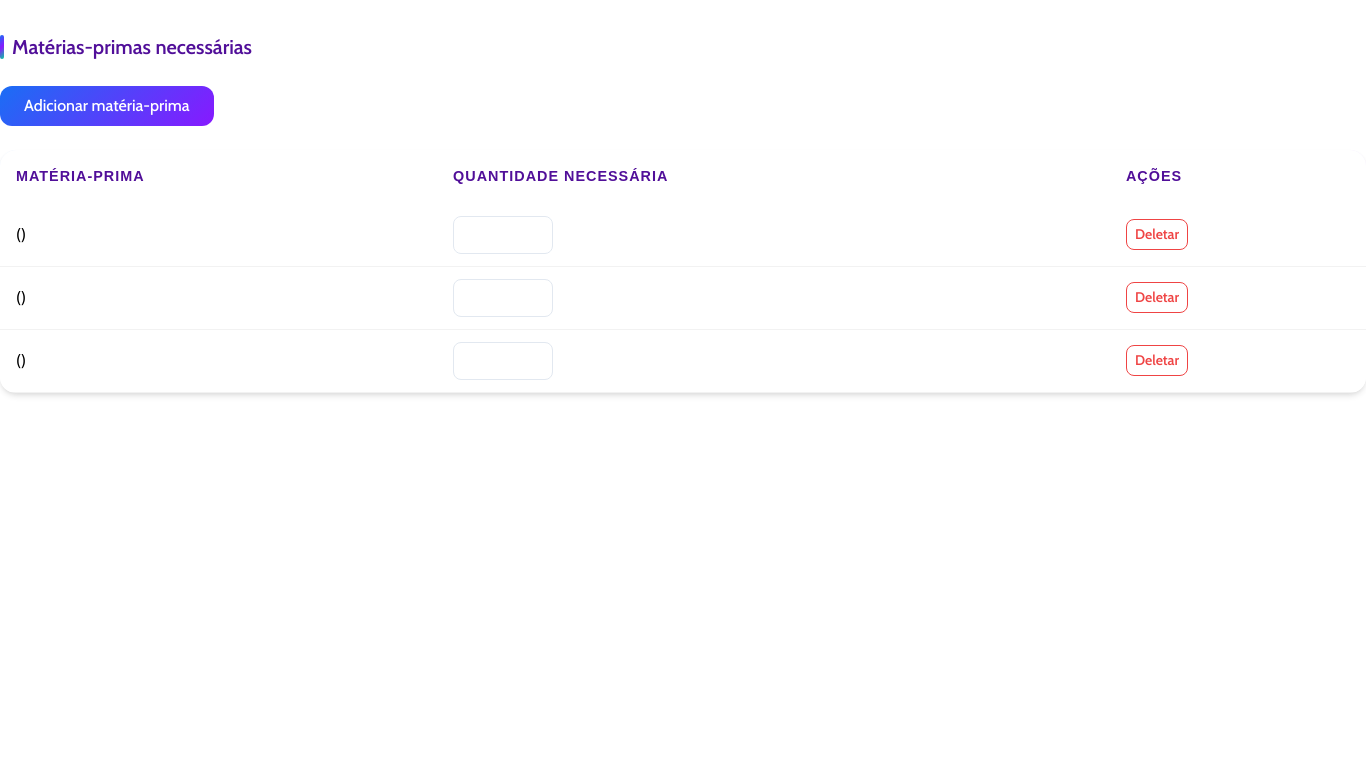
Scenario: ProductAssociations Component › adds new association successfully
The width and height of the screenshot is (1366, 768).
Click the button "Adicionar matéria-prima" at [107, 106], box 0,86 -> 214,126
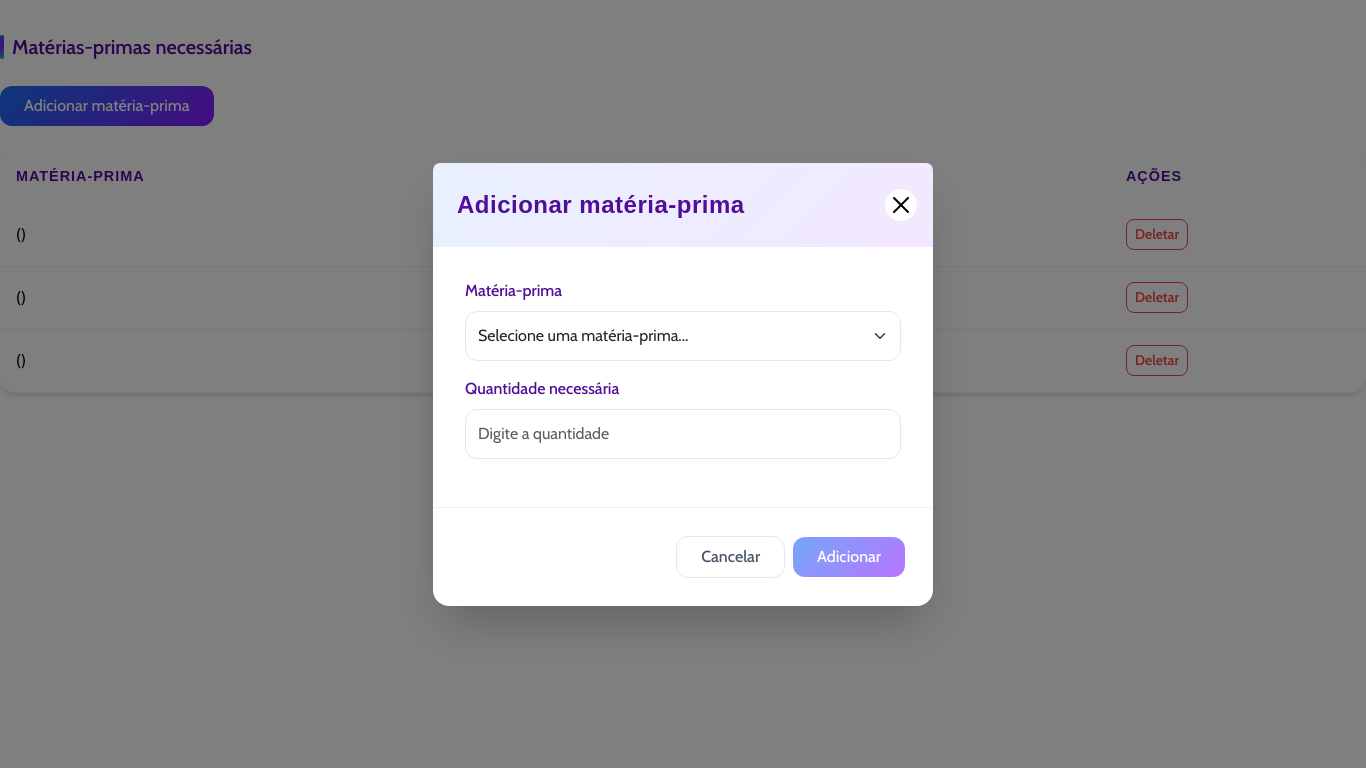
Select "Paint (RM003) - Estoque: 50" in the dropdown at [683, 336], box 465,310 -> 901,360
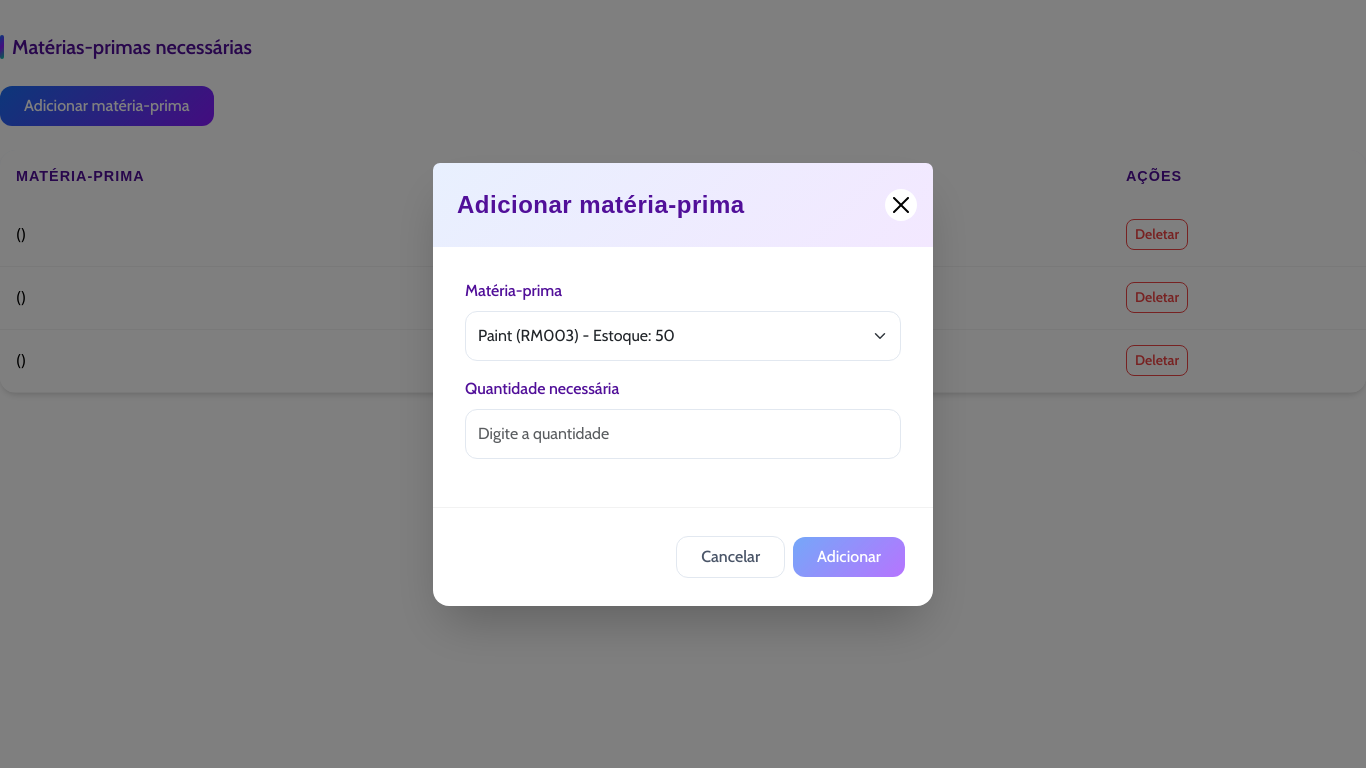
Type "2" into the number field with placeholder "Digite a quantidade" at [683, 434], box 465,408 -> 901,458
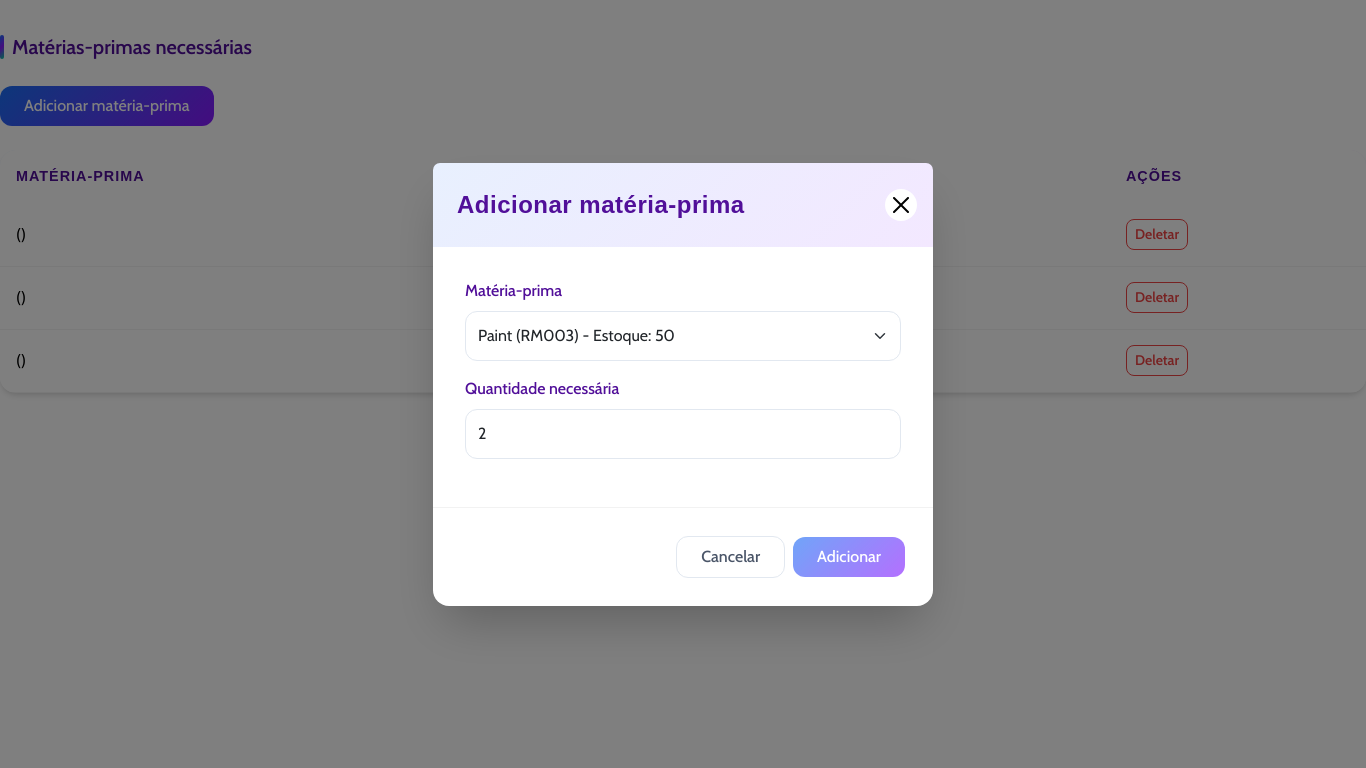
Click the button "Adicionar" at [849, 556], box 793,536 -> 905,576
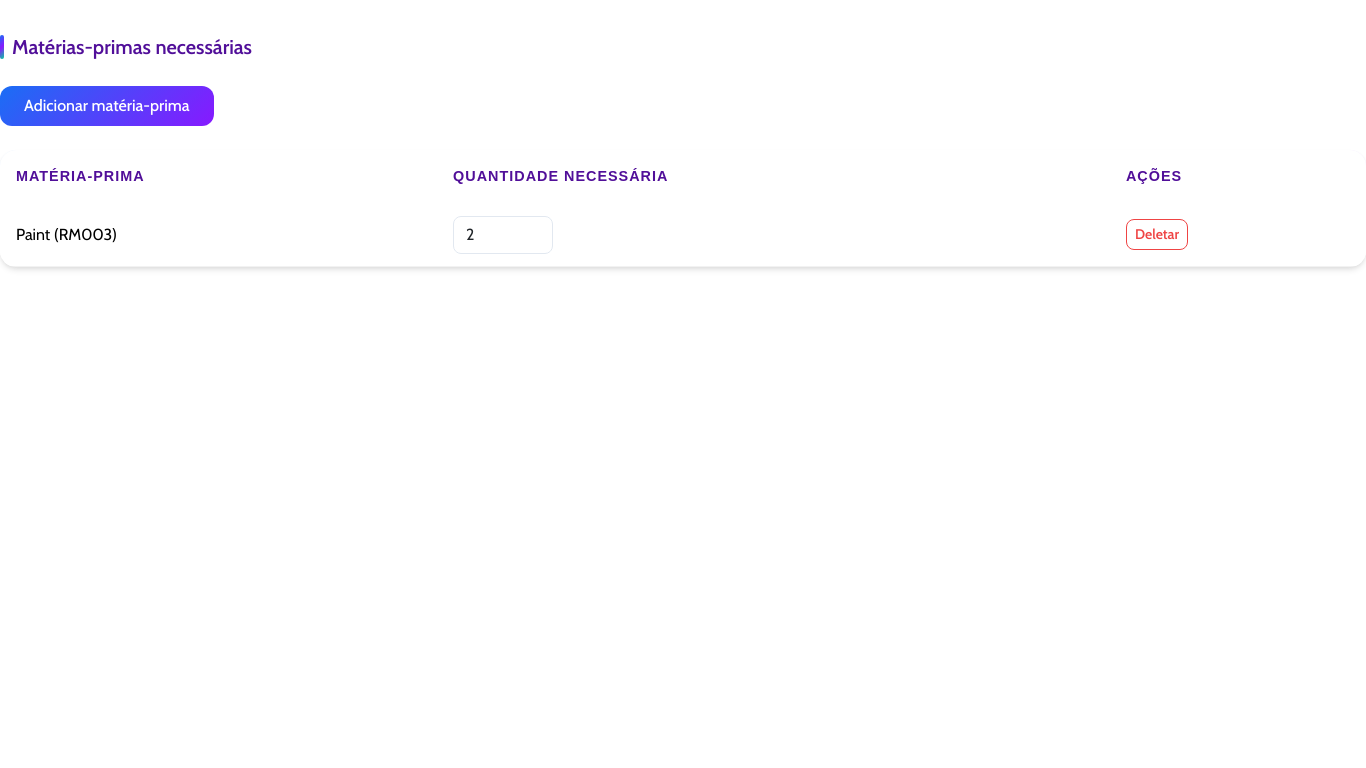
Result: the text "Paint (RM003)" is shown at 0,204 -> 437,266
